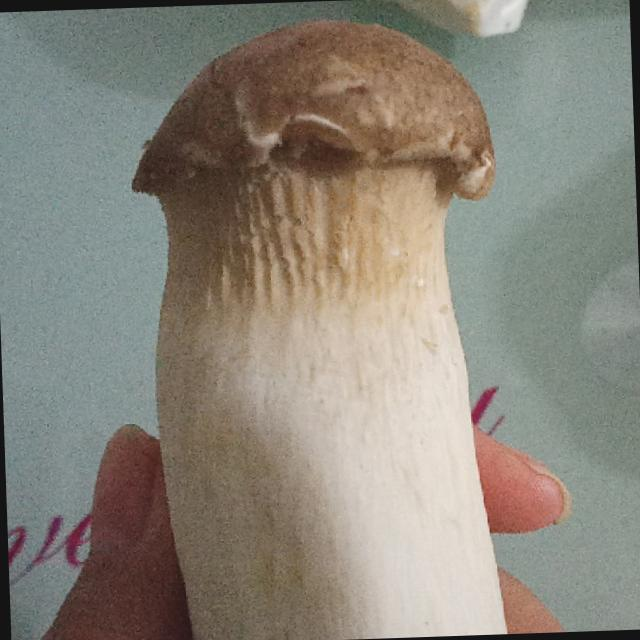Pleurotus eryngii: (125, 17, 513, 640)
